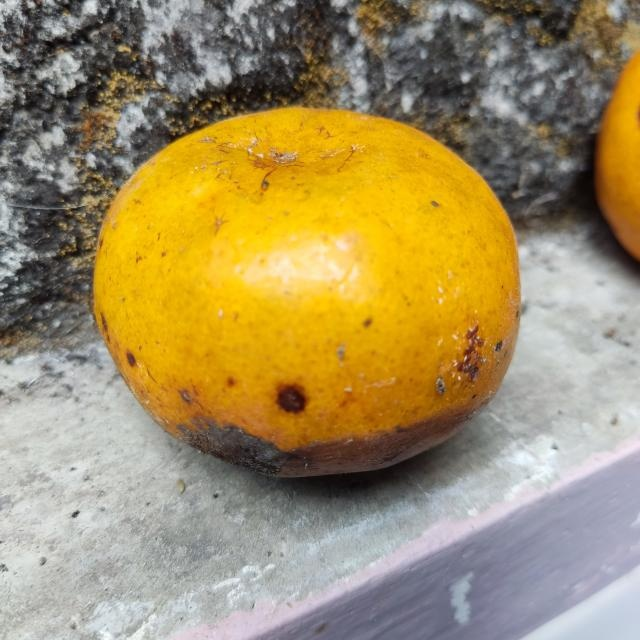agrume: (91, 103, 522, 481)
